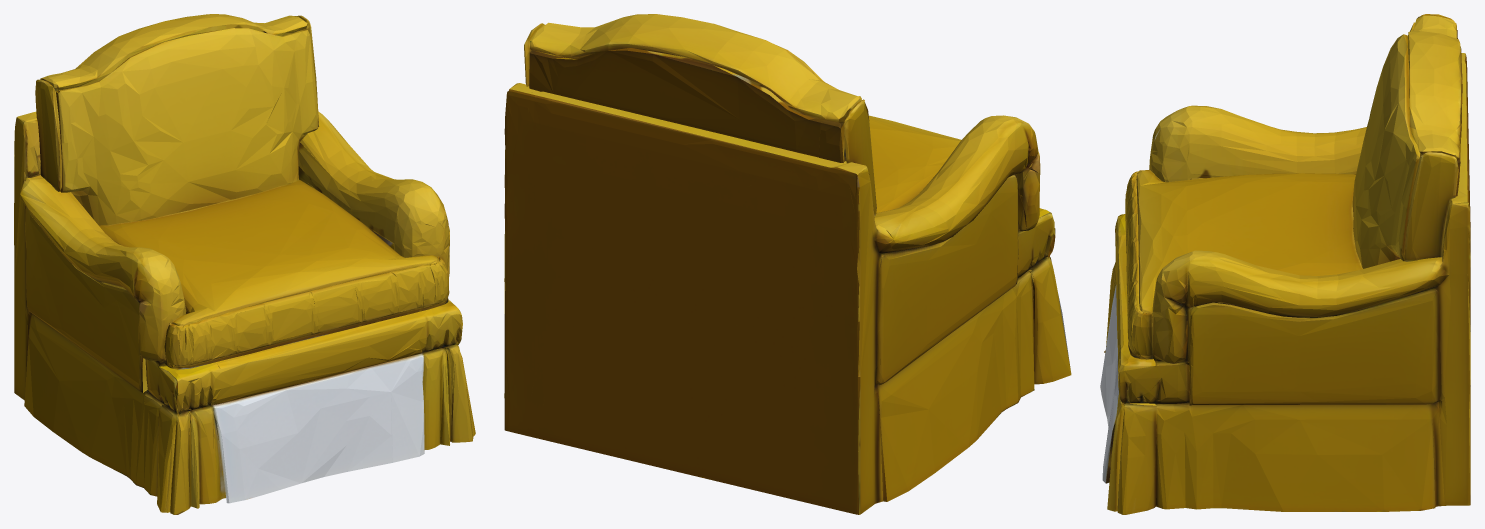
Rendered from edited_mesh.glb.
3 renders of one model, left to right at view 1: azimuth 30°, elevation 25°; view 2: azimuth 150°, elevation 25°; view 3: azimuth 270°, elevation 25°, orthographic. The views are drawn at different scales.
Parts seen in each view (by area): view 1: normalized_model.obj; view 2: normalized_model.obj; view 3: normalized_model.obj.
Part boxes in pixels (x1,y1,x2,y2): normalized_model.obj: (14, 14, 475, 514); normalized_model.obj: (504, 14, 1071, 514); normalized_model.obj: (1100, 14, 1470, 514).
Bounding box in the file's own units: 1.3 × 1.35 × 1.21.
Materials: 1 (1 with a texture image).
